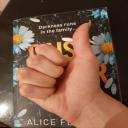ThumbsUp: (16, 18, 97, 120)
